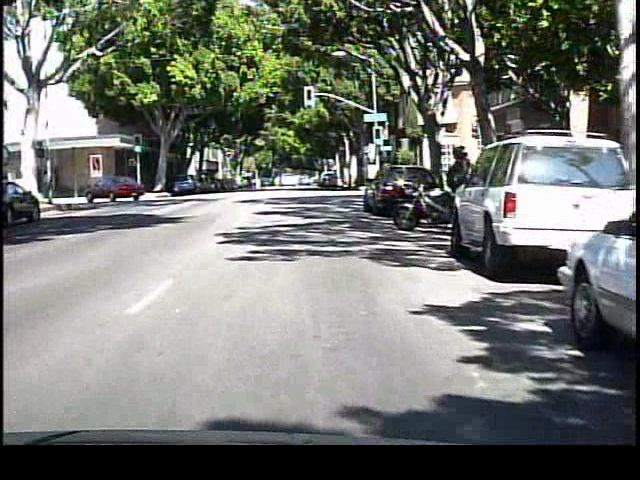person: (442, 134, 483, 239)
